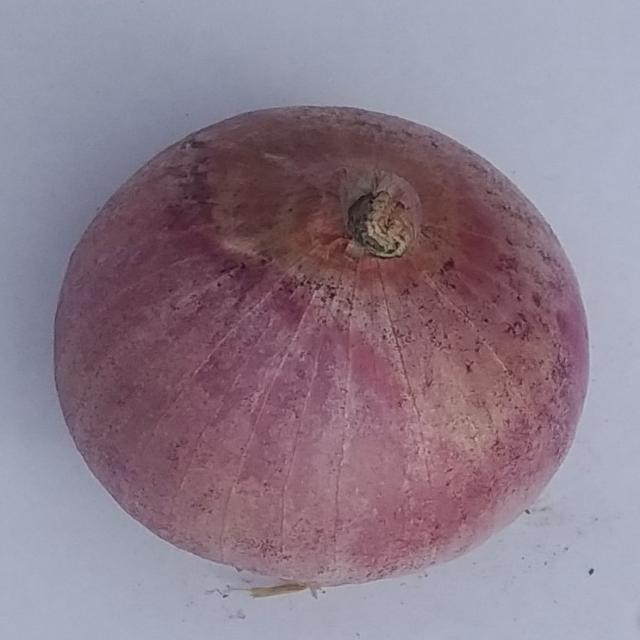onion: (54, 101, 592, 598)
